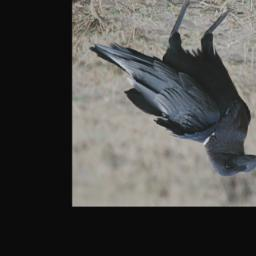Crow: (90, 0, 256, 177)
